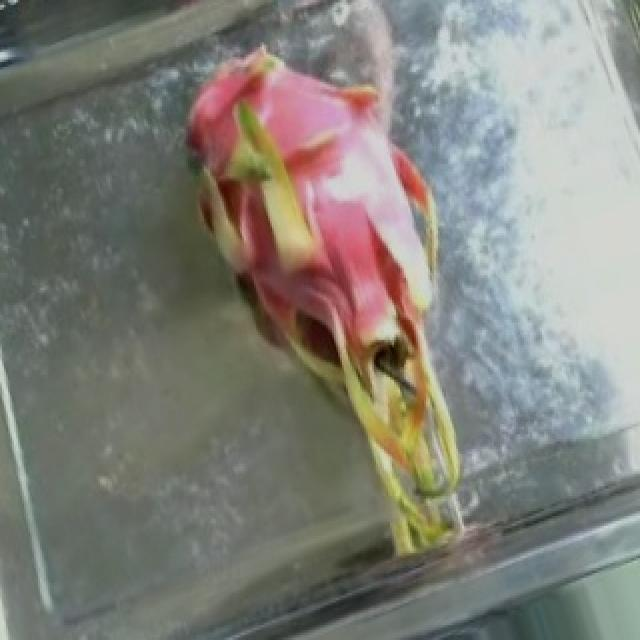fruit: (100, 8, 508, 472)
